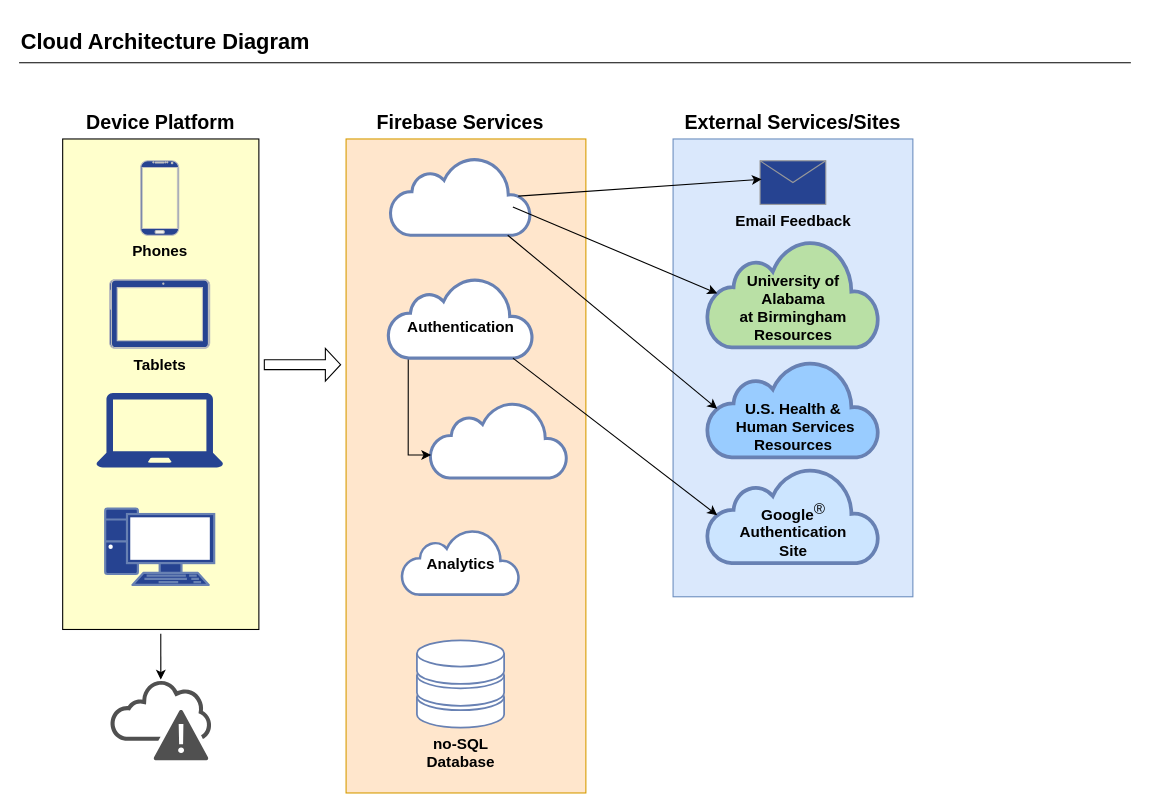
Some shapes in this 1151 by 812 pixel diagram are drawn without their labels. Each missing label, with the centre of its shape:
Desktop: the point at 159,546
Email & Password Authentication: the point at 498,439
Laptop: the point at 159,429
Offline Mode: the point at 160,719
Website Hosting: the point at 459,195
